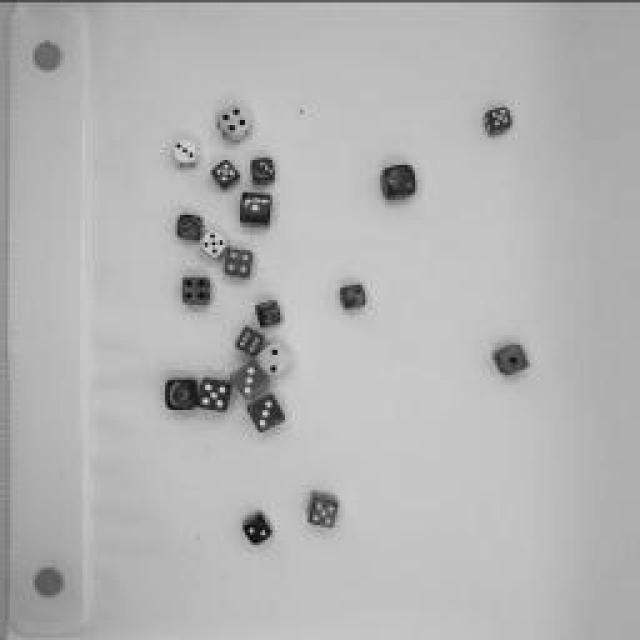dice_1: (162, 375, 202, 415), (237, 189, 275, 229), (490, 342, 530, 376)
dice_2: (250, 335, 295, 380), (379, 161, 419, 201), (241, 509, 274, 546), (336, 280, 369, 312), (175, 210, 205, 245)
dice_3: (242, 391, 288, 434), (228, 358, 272, 400), (171, 135, 201, 170), (249, 155, 276, 185)
dice_4: (214, 102, 256, 146), (220, 245, 255, 280), (179, 275, 211, 307), (254, 296, 284, 329)
dice_5: (302, 488, 342, 532), (195, 373, 235, 415), (195, 224, 230, 264), (208, 156, 242, 194), (482, 104, 512, 138)
dice_6: (232, 325, 268, 360)
